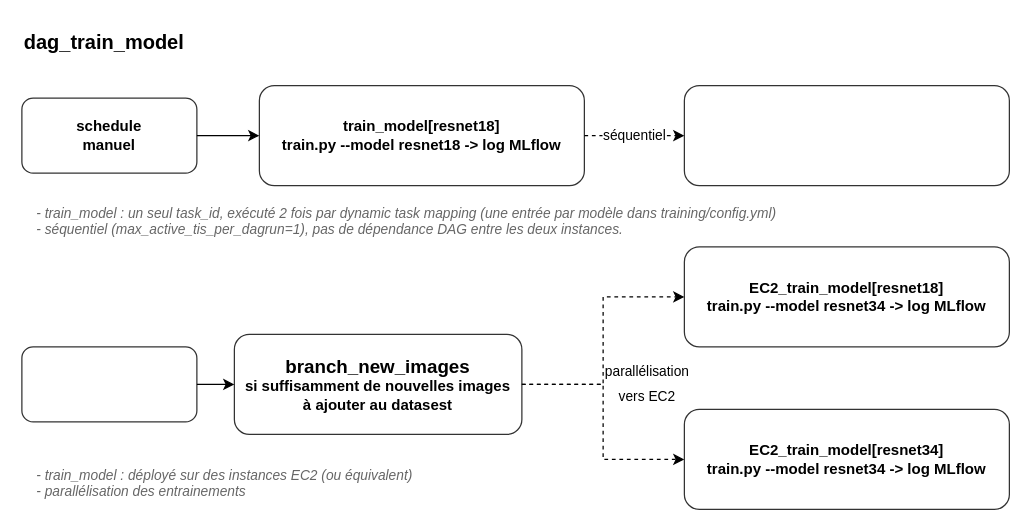
This 1031x531 diagram has some shape labels left out. The centre of each missing label's shape, as x and y in pixels:
"schedule 0 * * * *" goes at [109,384].
"train_model[resnet34] train.py --model resnet34 -> log MLflow" goes at [846,135].
